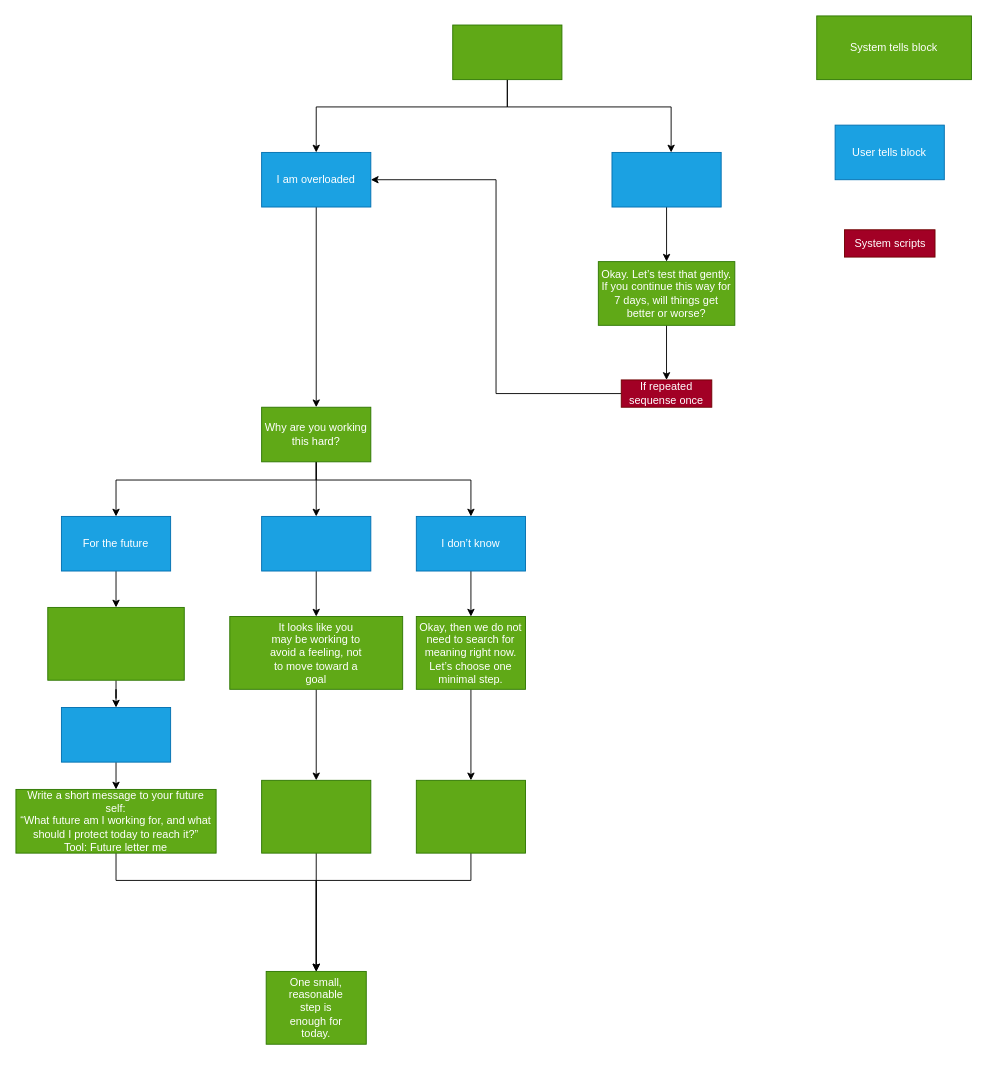
The diagram is 987 pixels wide and 1067 high, and some of its shapes have lost their labels. The centre of each missing label's shape, as x and y in pixels:
Because I feel guilty: point (316, 543)
I just have to handle it: point (666, 179)
If you burn out, will that bring you closer to your future?: point (115, 643)
No: point (116, 734)
Tool: 5-Minute Pause. Take 5 minutes and simply notice what you are feeling: point (316, 816)
Tool: 5-Minute Task. Choose one task you can do in 5 minutes.: point (470, 816)
You have high workload. How do you feel?: point (507, 52)
